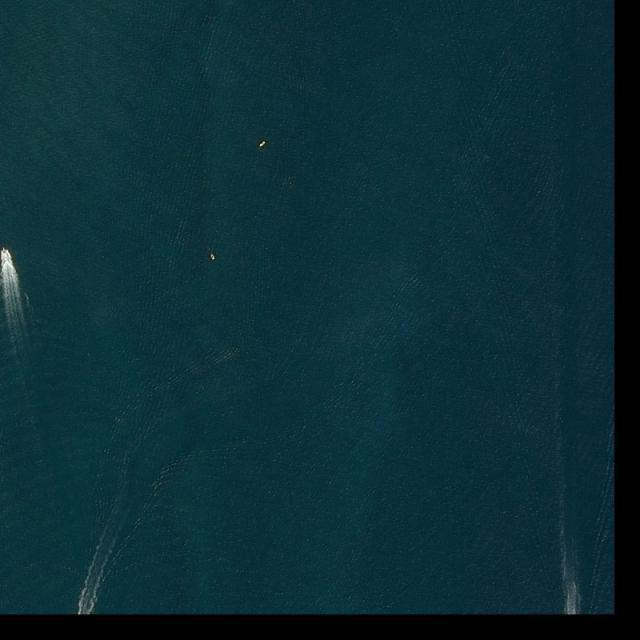ship: (0, 246, 10, 262), (258, 139, 266, 148), (210, 254, 215, 260)
